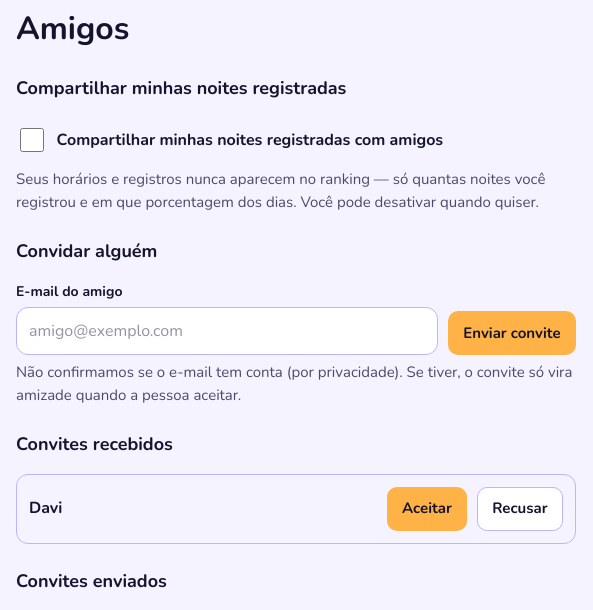
Test case: tela de Amigos › envia convite pelo e-mail digitado e confirma
This screenshot has width=593, height=610.
Type "fabio@exemplo.com" into the field labelled "E-mail do amigo" at (227, 331), box [16,307,438,355]
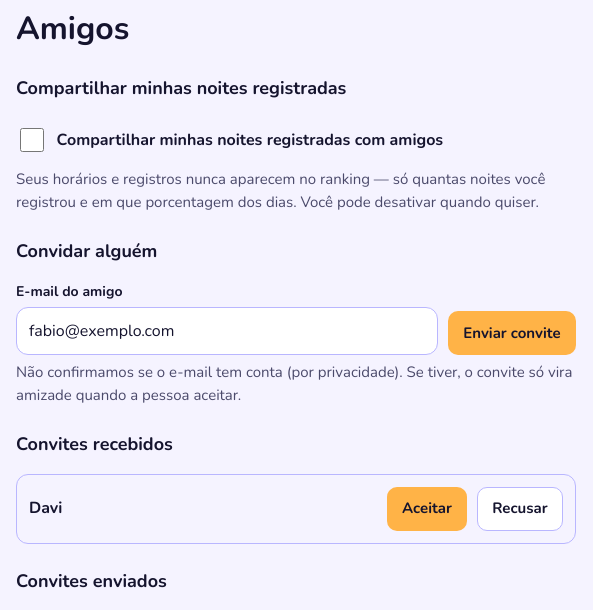
Click the button "Enviar convite" at (512, 333), box [448,311,576,355]
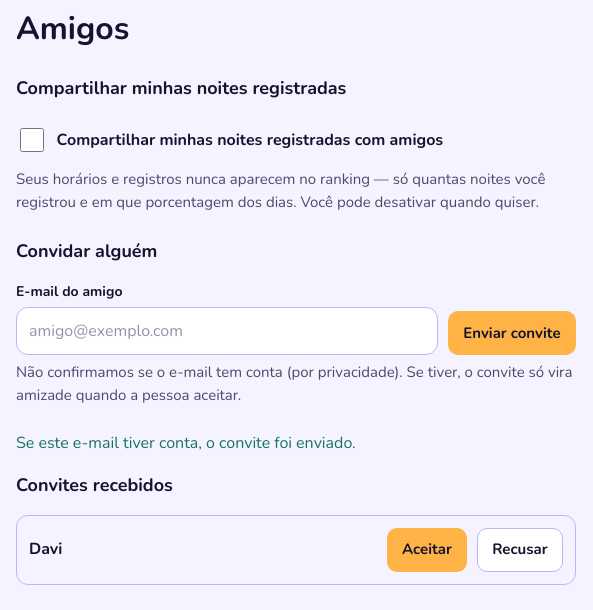
Expected: the message reads "Se este e-mail tiver conta, o convite foi enviado.", [16,432,356,454]
